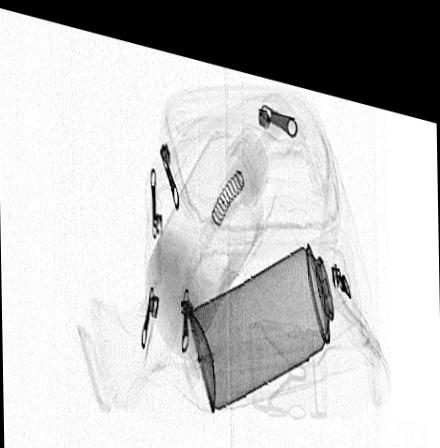Sprayer: (186, 204, 360, 399)
